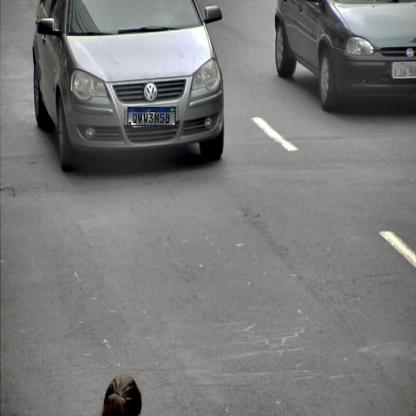PlacaM: (127, 107, 176, 126)
